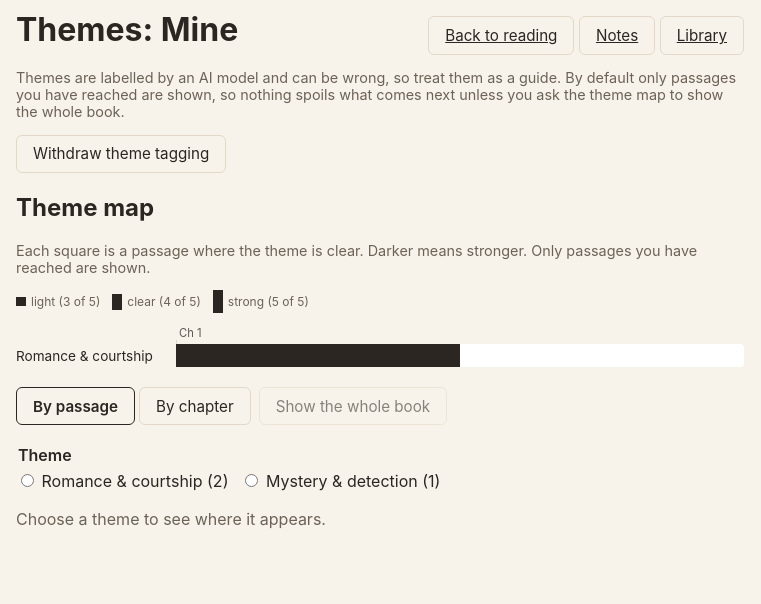
ThemesPage › owner_of_a_consented_upload_can_withdraw_after_confirming
What coordinates should you click on to do the following:
click the button "Withdraw theme tagging"
I would click on:
 (121, 154)
Its box is x1=16 y1=135 x2=226 y2=173.
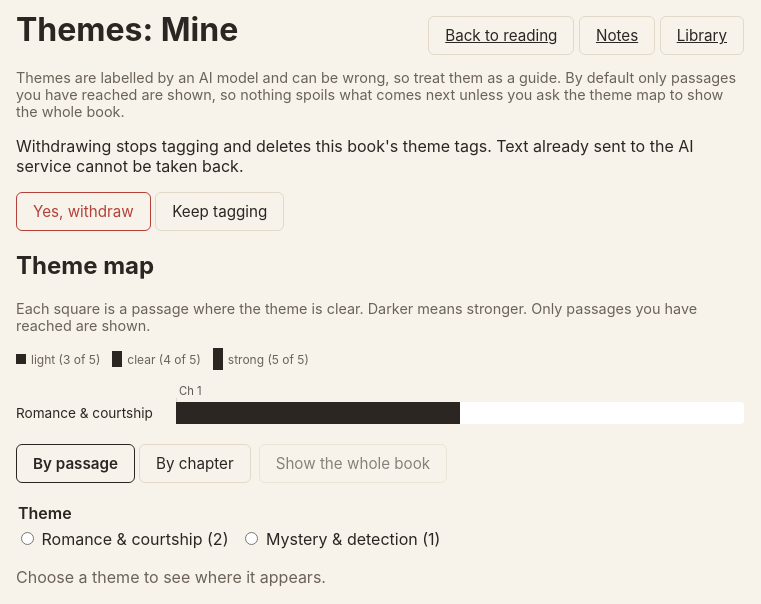
Check: the text "deletes this book's theme tags" is shown, box x1=16 y1=136 x2=694 y2=176
What coordinates should you click on to do the following:
click the button "Yes, withdraw"
I would click on:
 (83, 212)
Its box is x1=16 y1=192 x2=151 y2=231.
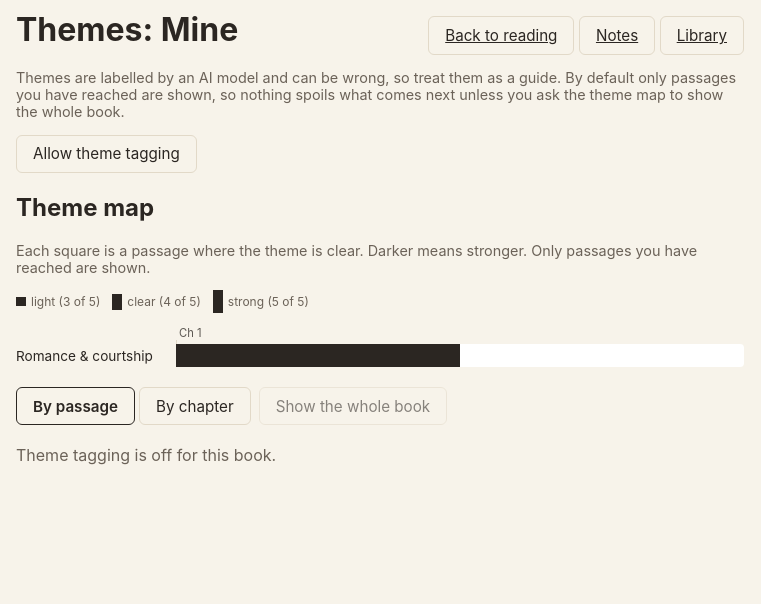
Check: the button "Allow theme tagging" is shown, box x1=16 y1=135 x2=197 y2=173
